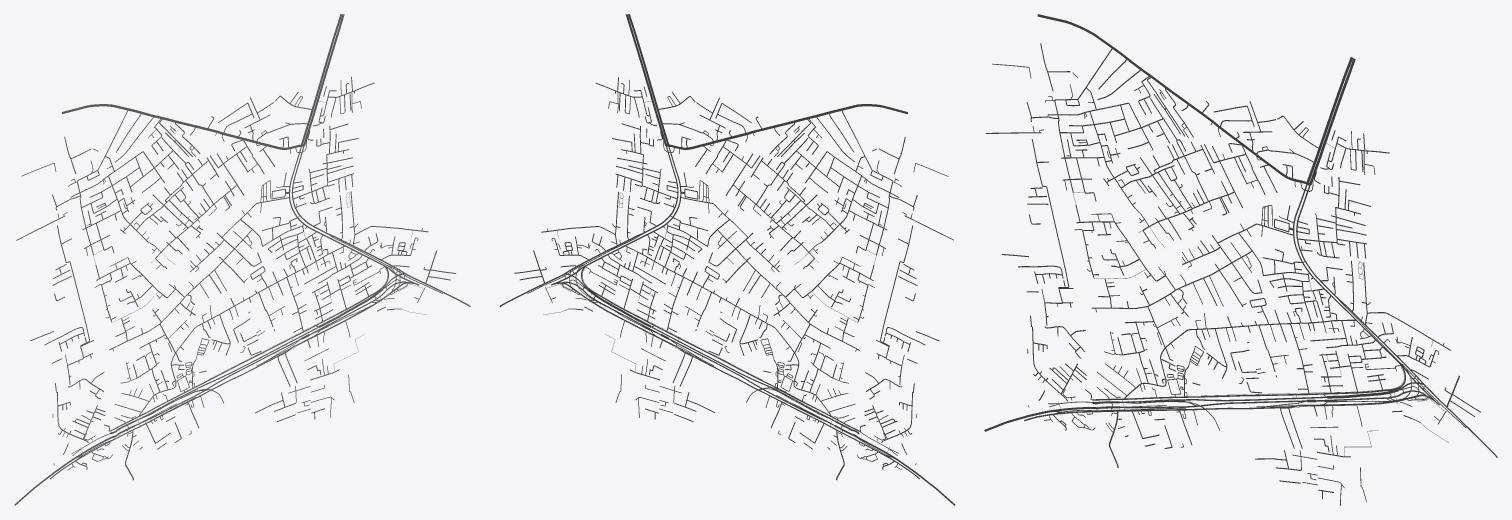
Rendered from roads_1_4.obj.
3 renders of one model, left to right at view 1: azimuth 30°, elevation 25°; view 2: azimuth 150°, elevation 25°; view 3: azimuth 330°, elevation 25°, orthographic. The views are drawn at different scales.
Bounding box in the file's own units: 3011 × 2622 × 26.09.
6 materials, 6 textured.
